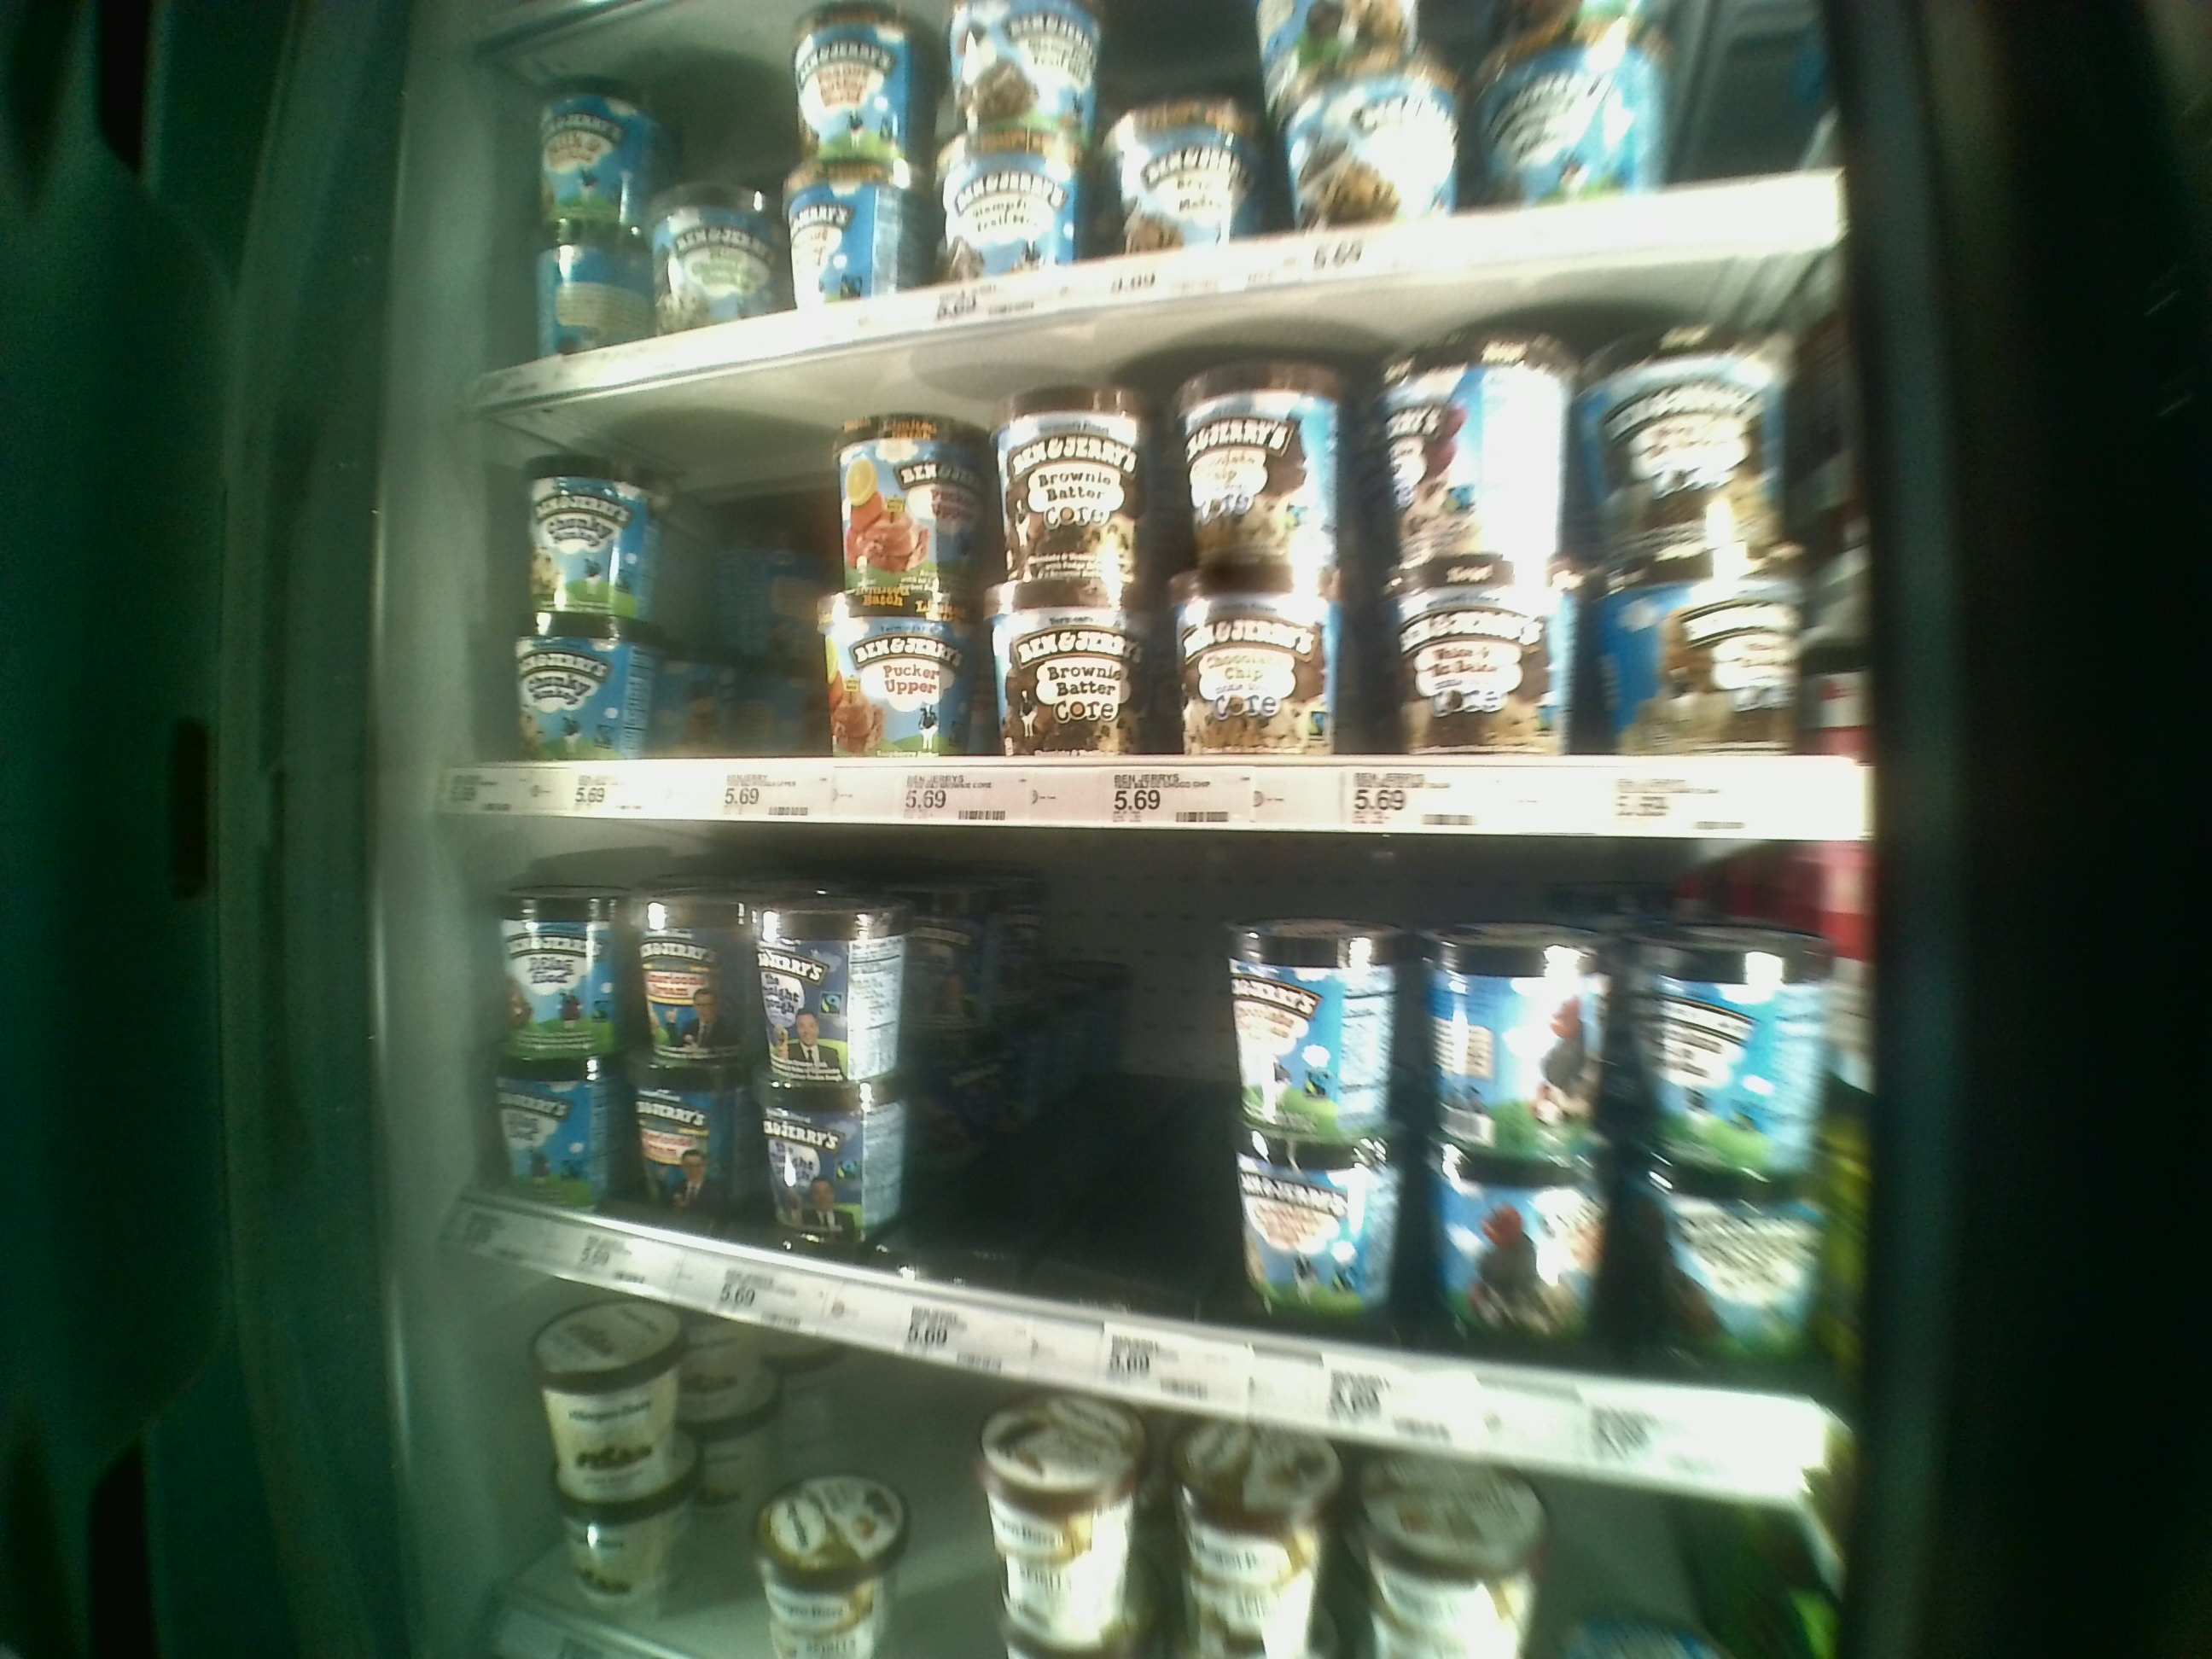shelf: (465, 814, 1885, 1507), (474, 249, 1872, 838)
